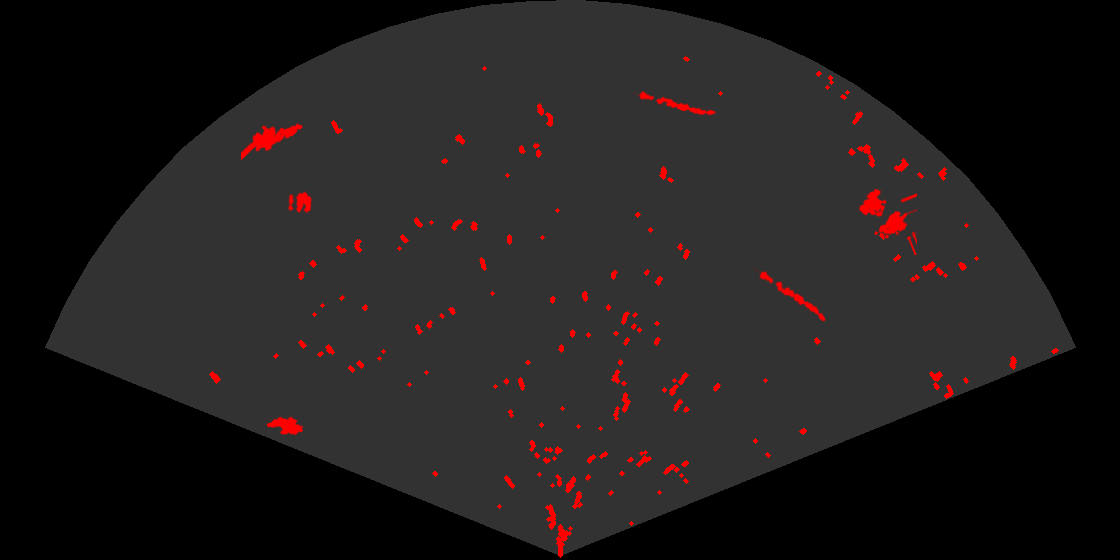AUV: (265, 415, 305, 437)
ball: (286, 190, 313, 214)
cage: (857, 187, 917, 255)
chain: (754, 267, 827, 323), (633, 90, 717, 117)
frogman: (241, 122, 304, 162)
